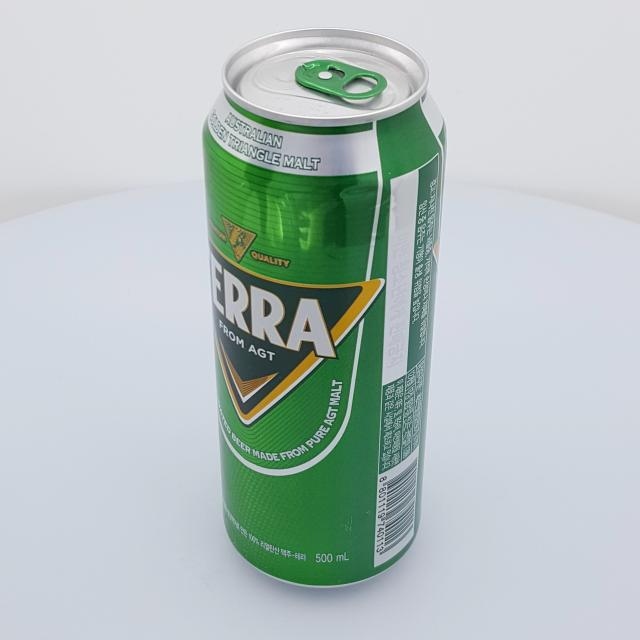beer-can: (202, 27, 447, 588)
